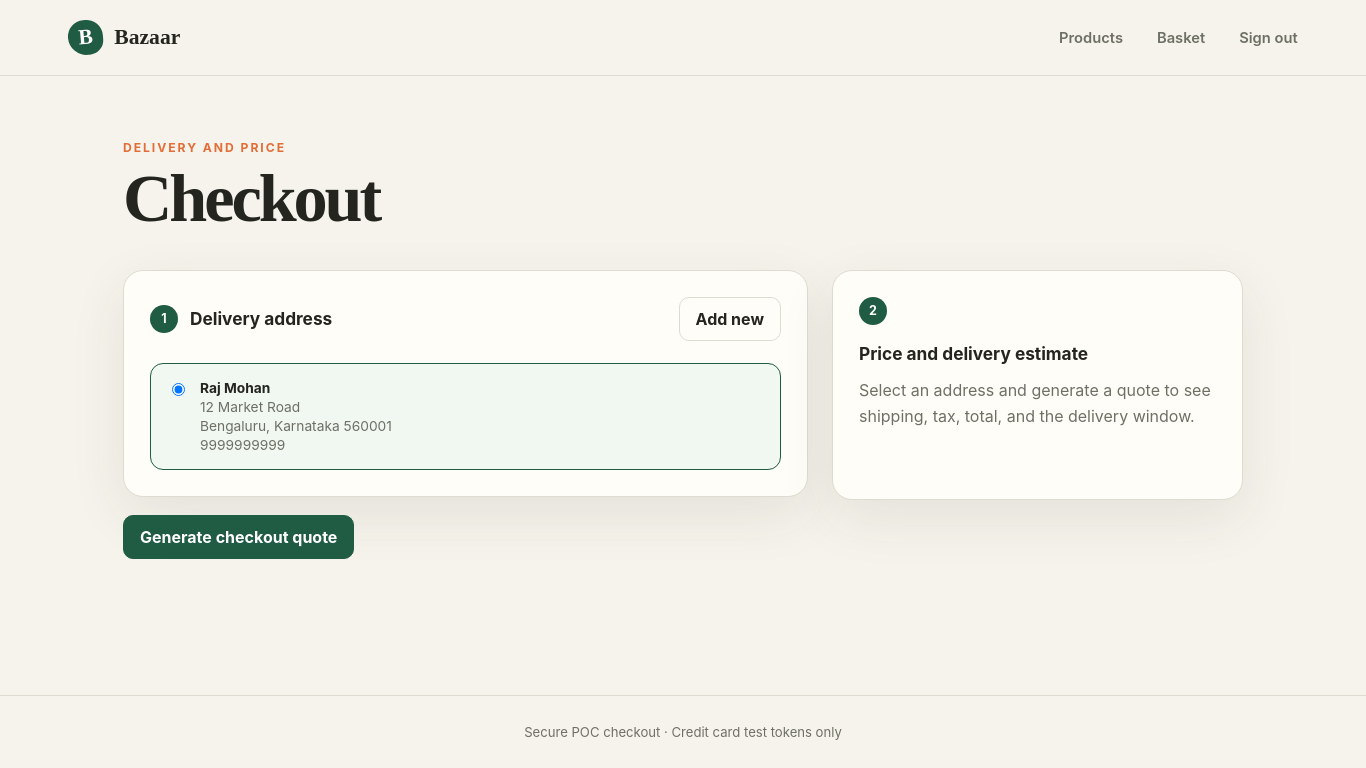
commerce web › returns to the basket when order placement reports BASKET_VERSION_CHANGED
The image size is (1366, 768).
Click the button "Generate checkout quote" at coordinates (239, 537), box [123, 515, 354, 559]
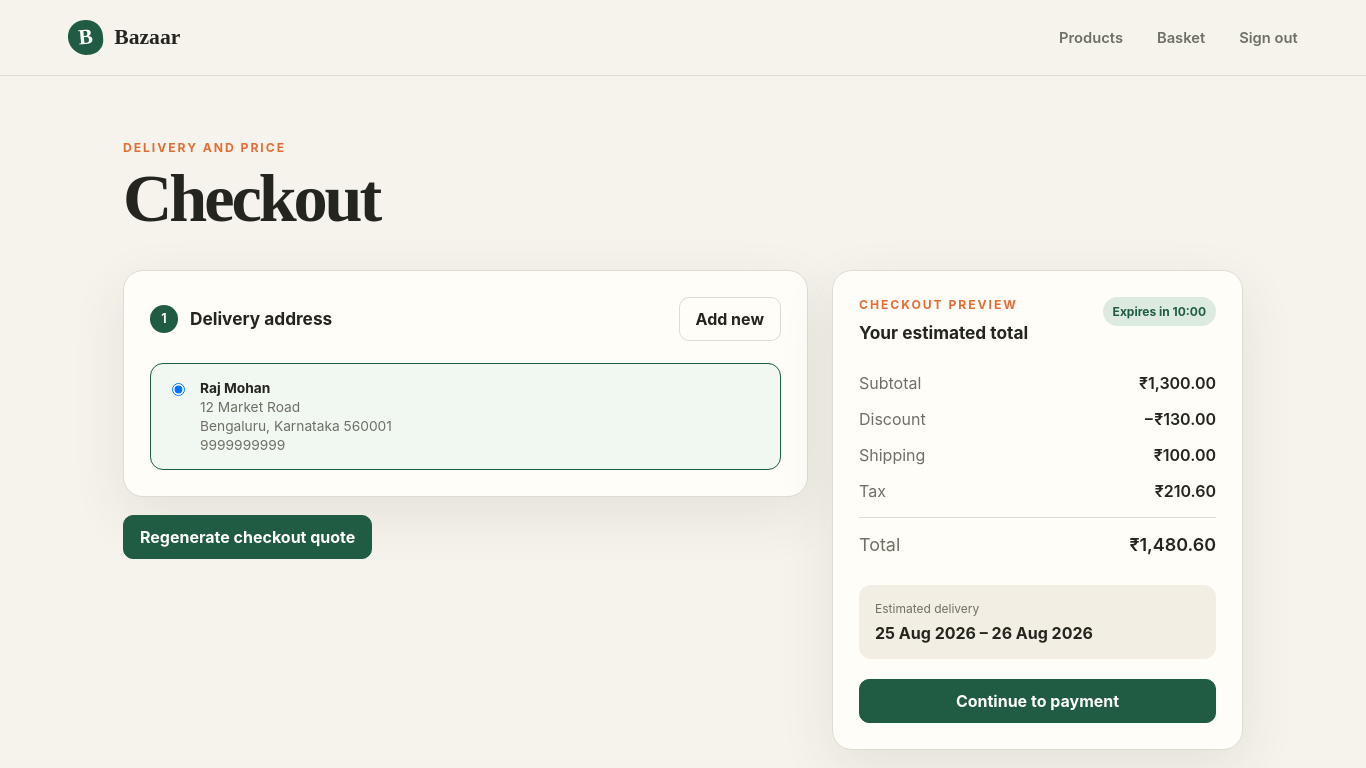
Click the button "Continue to payment" at coordinates (1038, 701), box [859, 679, 1216, 723]
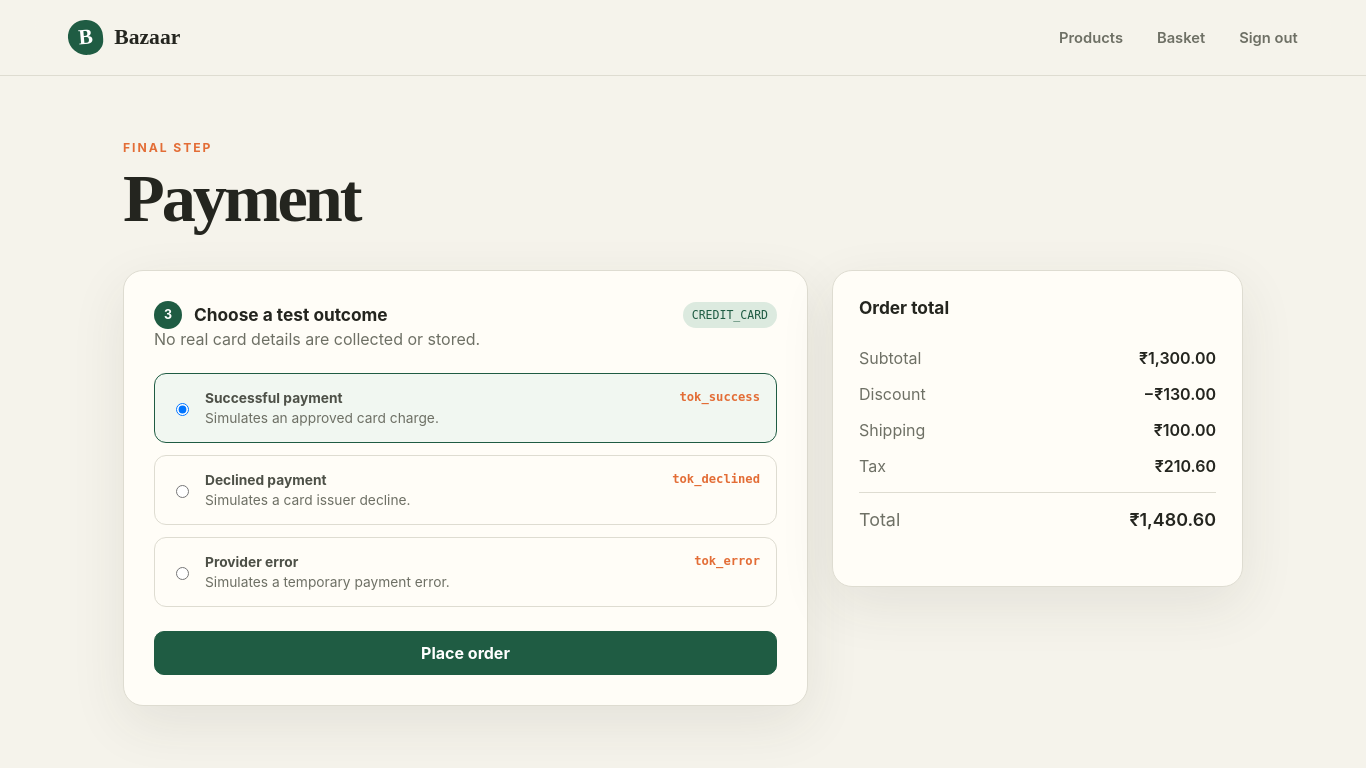
Check: the heading "Payment" is shown, box [123, 165, 359, 232]
Click the button "Place order" at coordinates (466, 653), box [154, 631, 777, 675]
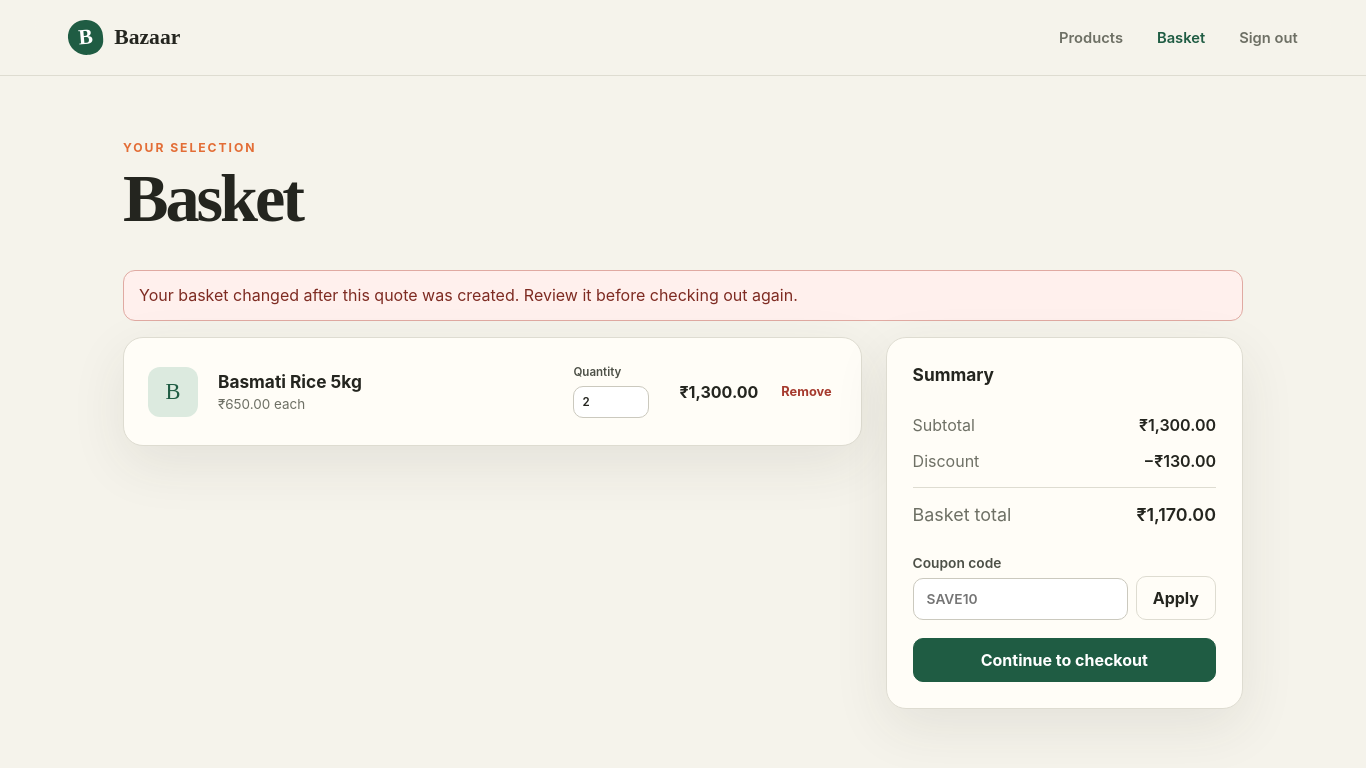
Check: the message shows "Your basket changed after this quote was created.", box [139, 285, 798, 305]
